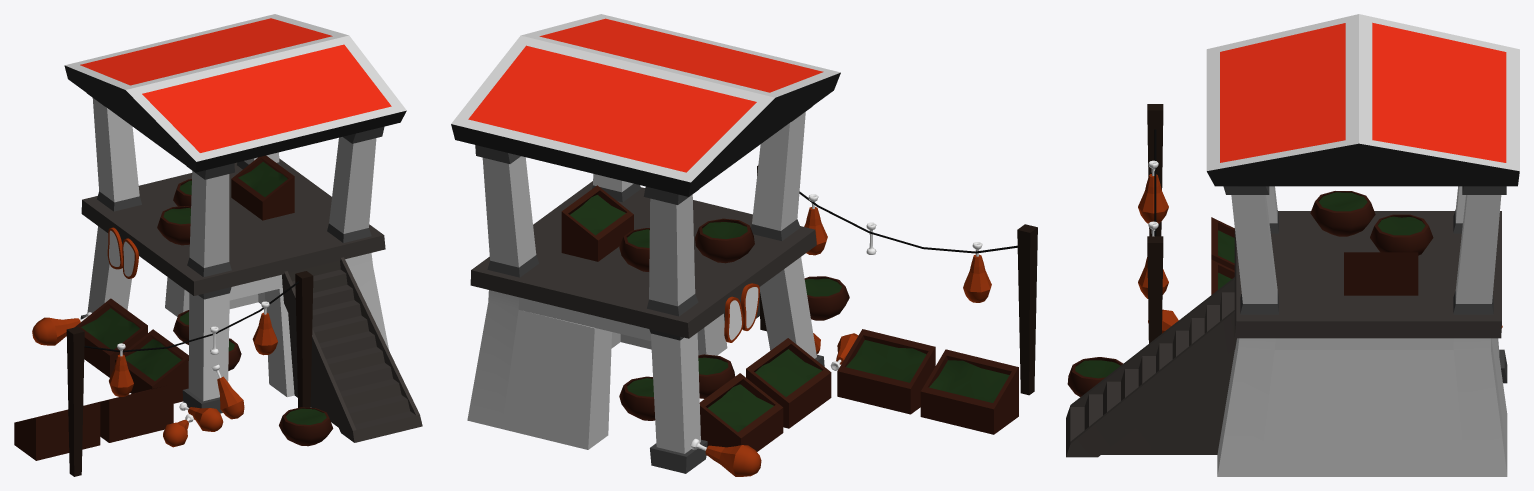
File: Market_Stage_Final.FBX
3 views of the same model, side by side, from view 1: azimuth 30°, elevation 25°; view 2: azimuth 150°, elevation 25°; view 3: azimuth 270°, elevation 25° (orthographic). The views are drawn at different scales.
Visible parts, largest first — view 1: Market_Stage_5; view 2: Market_Stage_5; view 3: Market_Stage_5.
Part boxes in pixels (x1=…): Market_Stage_5: x1=14, y1=14, x2=422, y2=476; Market_Stage_5: x1=451, y1=14, x2=1037, y2=476; Market_Stage_5: x1=1066, y1=14, x2=1519, y2=476.
Size of what is drawn, in the model's own units: 226 by 166 by 199.
